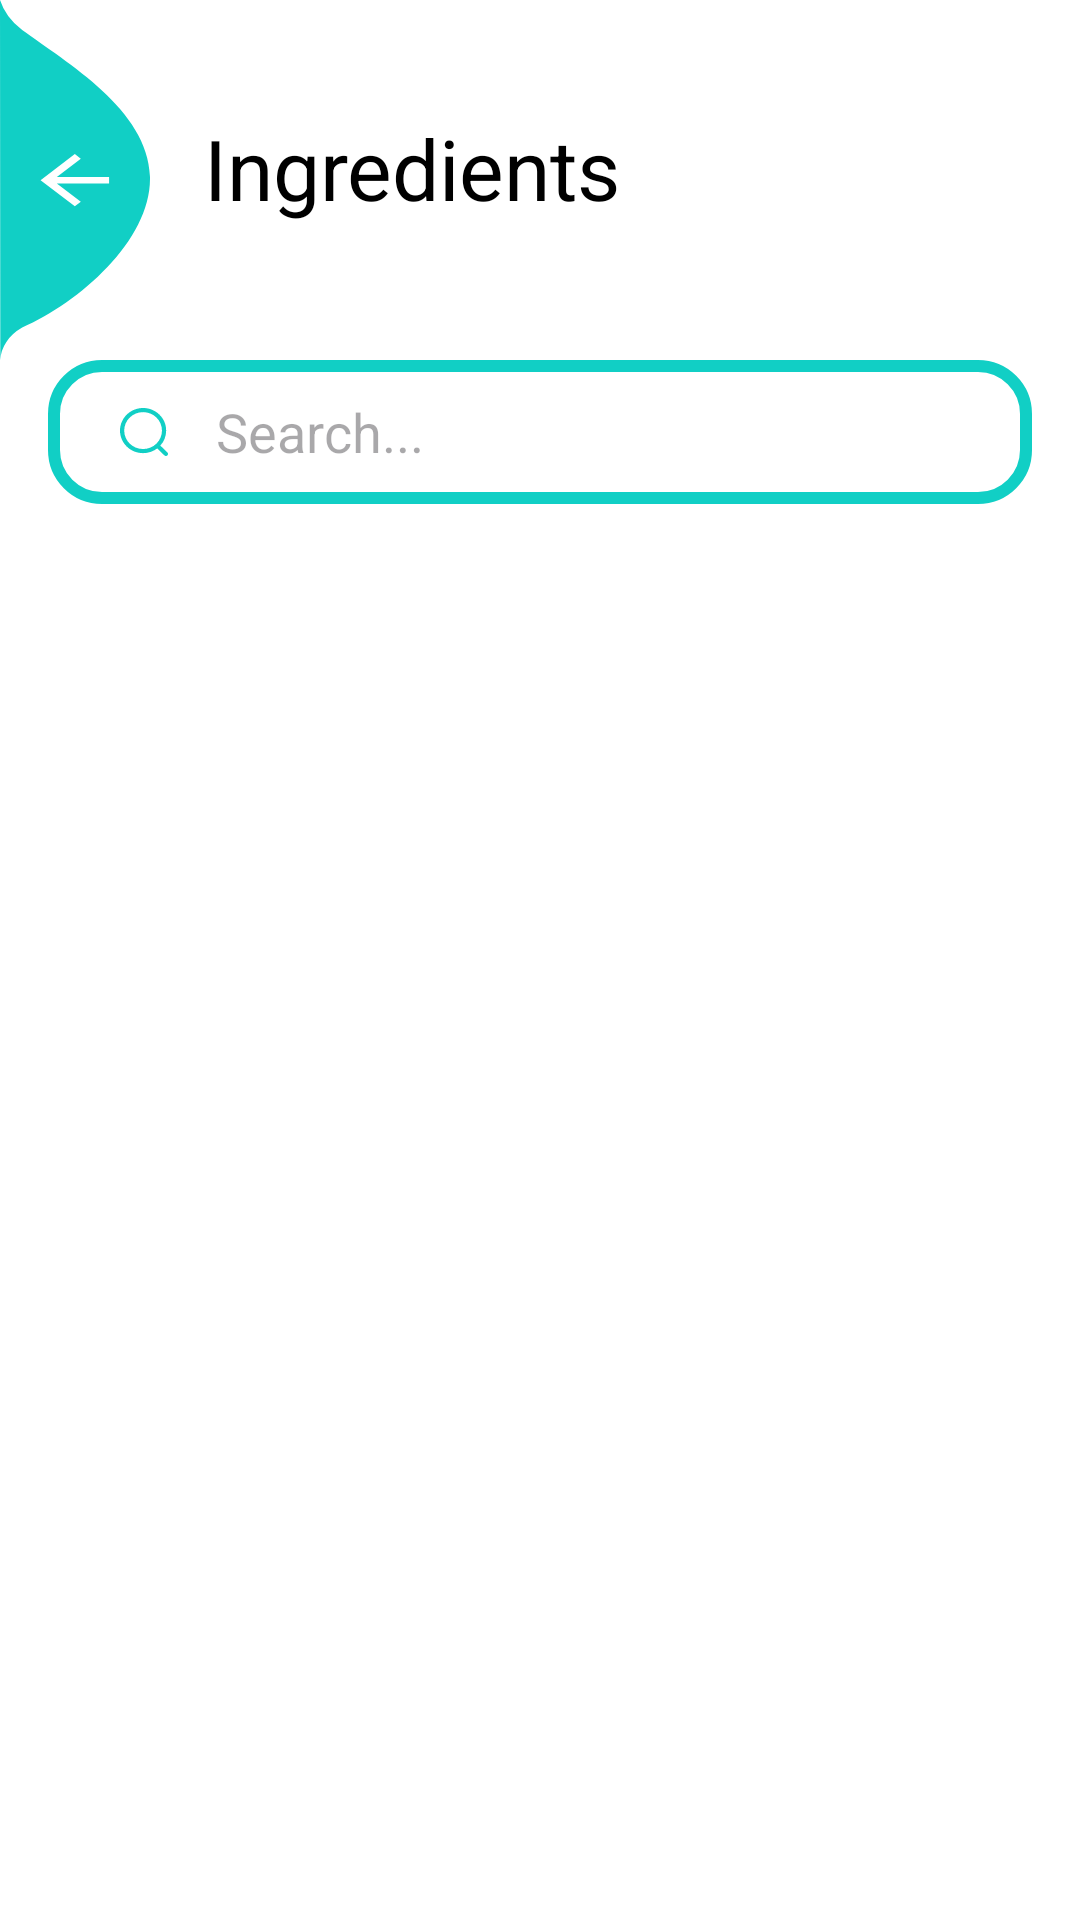

Point at icon controls on the screen. Image size 1080 × 1920, points as [x,y].
back search: [75,179]
